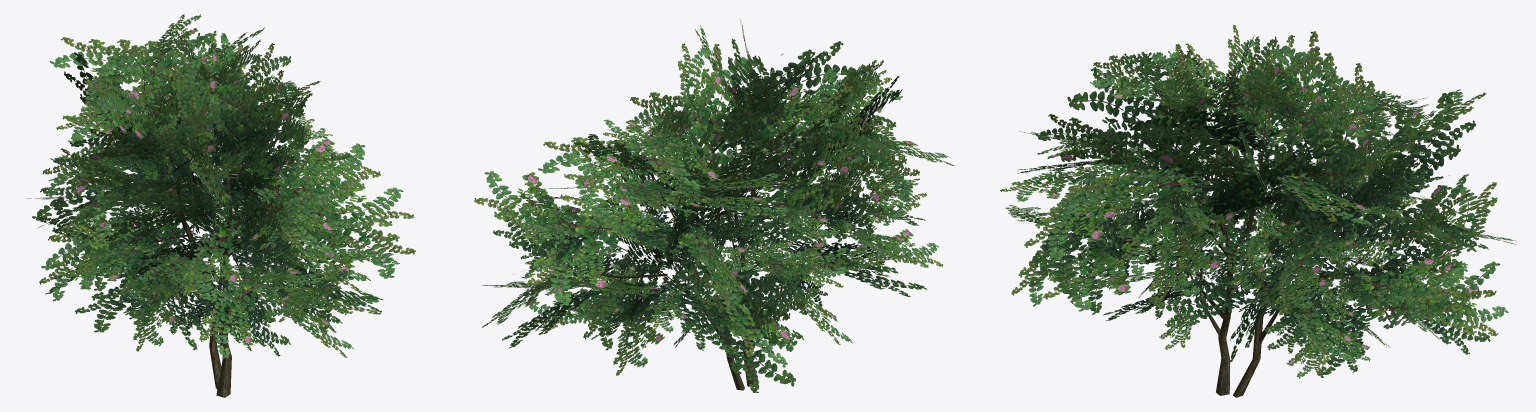
Rendered from tree4-obj.obj.
3 renders of one model, left to right at view 1: azimuth 30°, elevation 25°; view 2: azimuth 150°, elevation 25°; view 3: azimuth 270°, elevation 25°, orthographic. The views are drawn at different scales.
Parts seen in each view (by area): view 1: LOD01; view 2: LOD01; view 3: LOD01.
Boxes of the visible parts, bbox=[...] form: LOD01: bbox=[26, 14, 415, 397]; LOD01: bbox=[474, 18, 953, 392]; LOD01: bbox=[1000, 24, 1516, 397].
Bounding box in the file's own units: 9.9 × 9.46 × 12.91.
